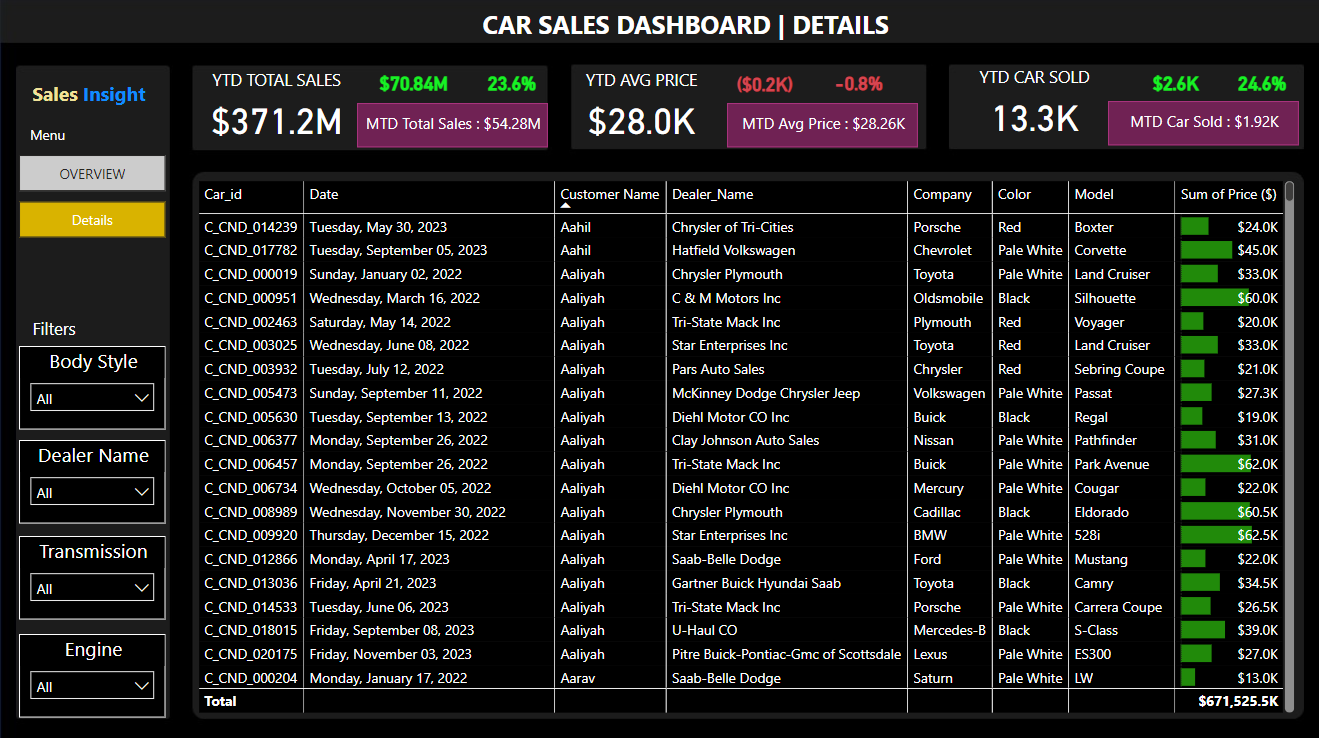

The page's visual inventory and layout, read from the dashboard file:
{"tool":"powerbi","page":{"name":"Details","canvas":[1280,720],"ordinal":1},"visuals":[{"type":"card","title":"YTD TOTAL SALES","fields":{"Values":["car_data.YTD Total Sales"]},"box":[188,65.9,161.9,76.8],"z":0},{"type":"card","fields":{"Values":["car_data.Sales Diff"]},"box":[363.6,61.7,76.8,38.4],"z":1000},{"type":"card","fields":{"Values":["car_data.YOY Total Sales"]},"box":[451.5,56.3,90.6,50.8],"z":2000},{"type":"card","fields":{"Values":["car_data.MTD KPI"]},"box":[347.2,100.2,185.2,42.5],"z":3000},{"type":"card","title":"YTD AVG PRICE","fields":{"Values":["car_data.YTD Average Price"]},"box":[542,65.9,161.9,76.8],"z":4000},{"type":"card","fields":{"Values":["car_data.Avg Sales Diff"]},"box":[703.9,63.1,76.8,38.4],"z":5000},{"type":"card","fields":{"Values":["car_data.YOY Avg Price"]},"box":[798.6,56.3,68.6,50.8],"z":6000},{"type":"card","fields":{"Values":["car_data.MTD Avg Price KPI"]},"box":[705.3,100.2,185.2,42.5],"z":7000},{"type":"card","title":"YTD CAR SOLD","fields":{"Values":["car_data.YTD car sold"]},"box":[922.1,63.1,161.9,76.8],"z":8000},{"type":"card","fields":{"Values":["car_data.Car Sold Diff"]},"box":[1101.9,61.7,76.8,38.4],"z":9000},{"type":"card","fields":{"Values":["car_data.YOY Car Sold"]},"box":[1167.8,56.3,112.5,50.8],"z":10000},{"type":"card","fields":{"Values":["car_data.MTD Car Sold KPI"]},"box":[1074.4,97.4,185.2,42.5],"z":11000},{"type":"textbox","box":[438,1.9,454.4,48.4],"z":12000},{"type":"slicer","title":"Body Style","fields":{"Values":["car_data.Body Style"]},"box":[19.4,335.3,142.4,81.4],"z":13000},{"type":"slicer","title":"Dealer Name","fields":{"Values":["car_data.Dealer_Name"]},"box":[19.4,426.3,142.4,81.4],"z":14000},{"type":"slicer","title":"Transmission","fields":{"Values":["car_data.Transmission"]},"box":[19.4,519.4,142.4,81.4],"z":15000},{"type":"slicer","title":"Engine ","fields":{"Values":["car_data.Engine"]},"box":[19.4,614.3,142.4,81.4],"z":16000},{"type":"textbox","box":[19.4,302.3,67.8,32.9],"z":17000},{"type":"tableEx","fields":{"Values":["car_data.Car_id","car_data.Date","car_data.Customer Name","car_data.Dealer_Name","car_data.Company","car_data.Color","car_data.Model","car_data.Price ($)"]},"box":[188,170.5,1071.7,525.2],"z":18000},{"type":"textbox","box":[19.4,72.7,135.7,45.5],"z":19000},{"type":"textbox","box":[19.4,116.3,55.2,32.9],"z":20000},{"type":"pageNavigator","box":[19.4,150.2,142.4,81.4],"z":21000}]}

Visuals, with their boxes in screenshot pixels (x1, y1, x2, y2), scaled from the page's 1280x720 canvas onto the 1319x738 screenshot:
"YTD TOTAL SALES" card: left=194, top=68, right=361, bottom=146
card - car_data.Sales Diff: left=375, top=63, right=454, bottom=103
card - car_data.YOY Total Sales: left=465, top=58, right=559, bottom=110
card - car_data.MTD KPI: left=358, top=103, right=549, bottom=146
"YTD AVG PRICE" card: left=559, top=68, right=725, bottom=146
card - car_data.Avg Sales Diff: left=725, top=65, right=804, bottom=104
card - car_data.YOY Avg Price: left=823, top=58, right=894, bottom=110
card - car_data.MTD Avg Price KPI: left=727, top=103, right=918, bottom=146
"YTD CAR SOLD" card: left=950, top=65, right=1117, bottom=143
card - car_data.Car Sold Diff: left=1135, top=63, right=1215, bottom=103
card - car_data.YOY Car Sold: left=1203, top=58, right=1318, bottom=110
card - car_data.MTD Car Sold KPI: left=1107, top=100, right=1298, bottom=143
textbox: left=451, top=2, right=920, bottom=52
"Body Style" slicer: left=20, top=344, right=167, bottom=427
"Dealer Name" slicer: left=20, top=437, right=167, bottom=520
"Transmission" slicer: left=20, top=532, right=167, bottom=616
"Engine " slicer: left=20, top=630, right=167, bottom=713
textbox: left=20, top=310, right=90, bottom=344
tableEx - car_data.Car_id x car_data.Date: left=194, top=175, right=1298, bottom=713
textbox: left=20, top=75, right=160, bottom=121
textbox: left=20, top=119, right=77, bottom=153
pageNavigator: left=20, top=154, right=167, bottom=237
